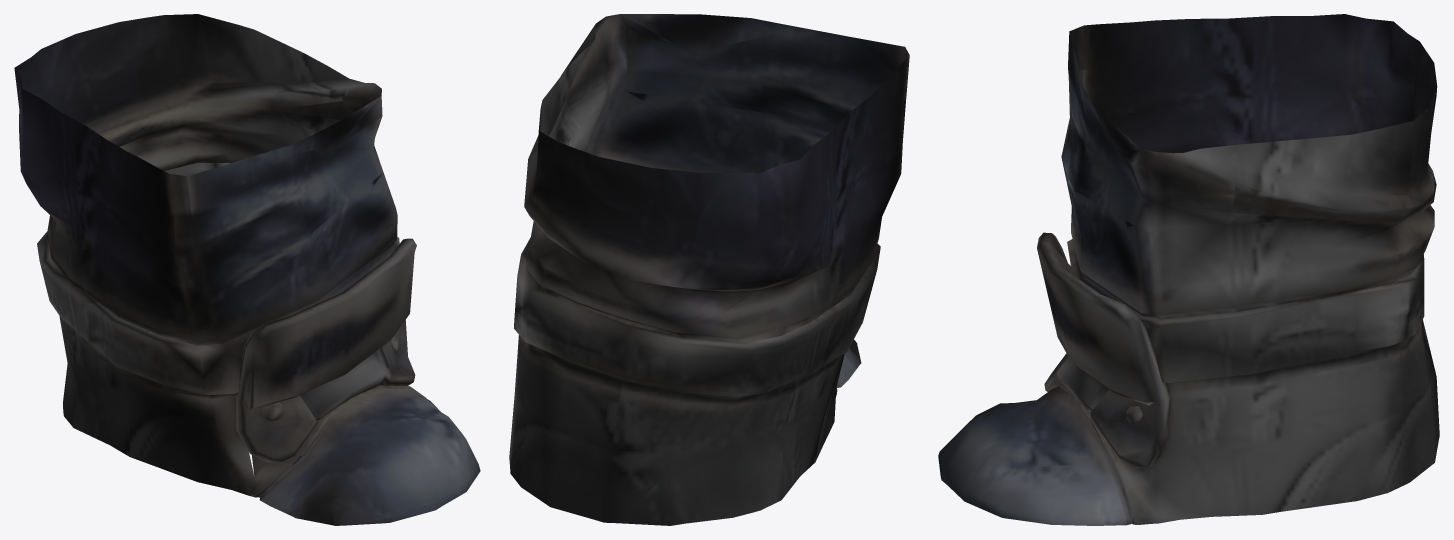
Rendered from LeftLowerLeg.glb.
The picture shows the model from 3 angles, left to right: view 1: azimuth 30°, elevation 25°; view 2: azimuth 150°, elevation 25°; view 3: azimuth 270°, elevation 25°; orthographic projection. The views are drawn at different scales.
Visible parts, largest first — view 1: LeftLowerLeg; view 2: LeftLowerLeg; view 3: LeftLowerLeg.
Part boxes in pixels (<box>): LeftLowerLeg: <box>14,14,480,525</box>; LeftLowerLeg: <box>509,14,909,525</box>; LeftLowerLeg: <box>938,14,1439,525</box>.
Bounding box in the file's own units: 1.33 × 1.38 × 1.77.
Materials: 1 (1 with a texture image).
